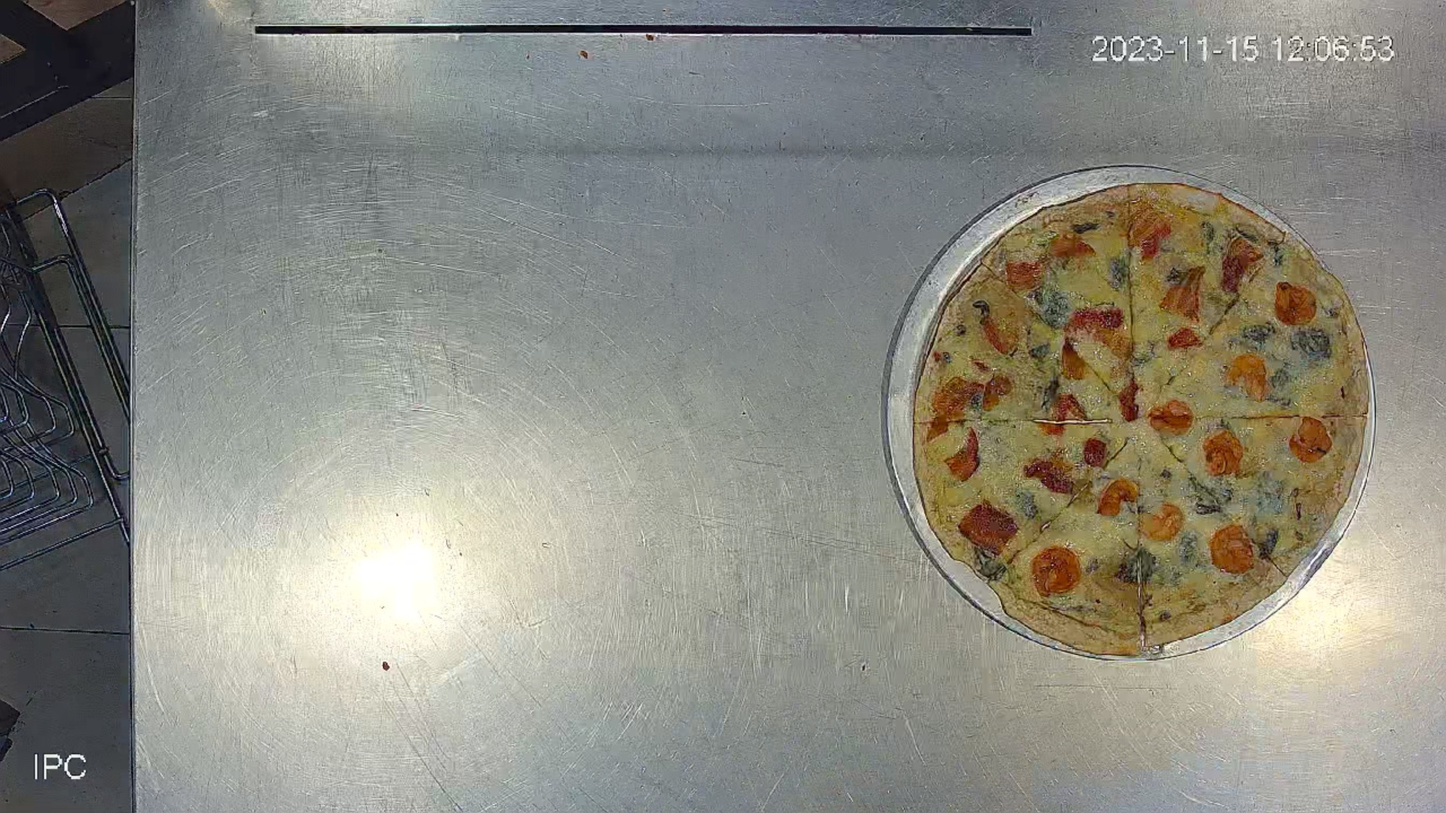pepporoni: (912, 181, 1373, 659)
